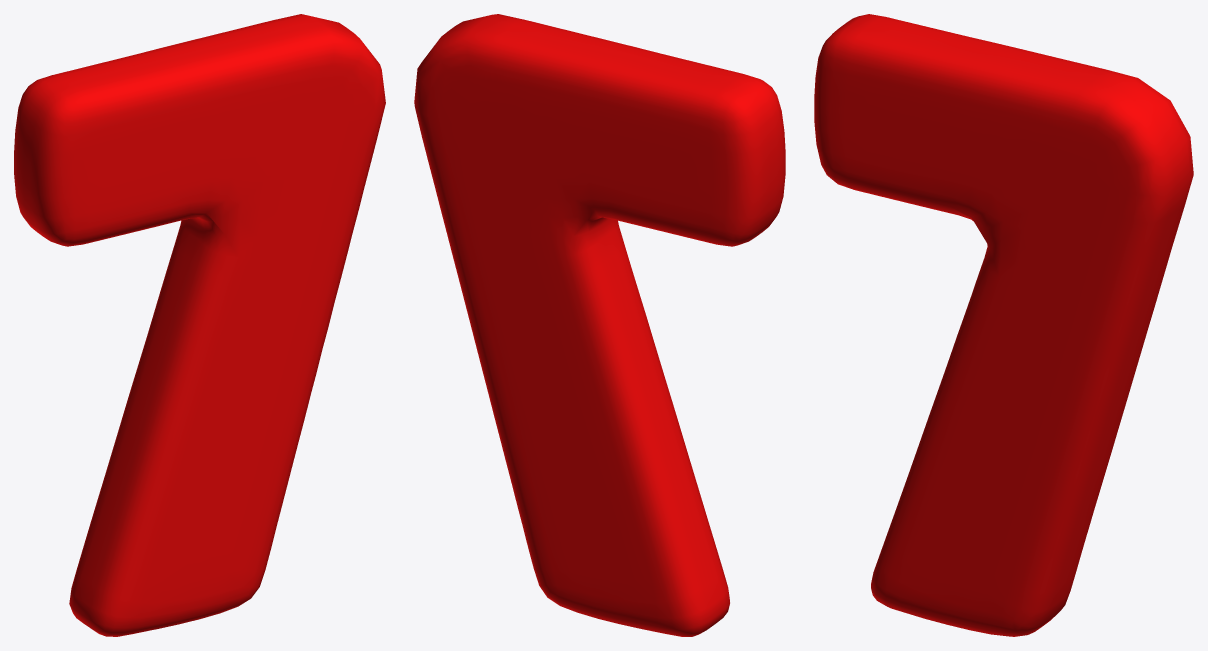
3 renders of one model, left to right at view 1: azimuth 30°, elevation 25°; view 2: azimuth 150°, elevation 25°; view 3: azimuth 330°, elevation 25°, orthographic. The views are drawn at different scales.
Visible parts, largest first — view 1: 7; view 2: 7; view 3: 7.
Part boxes in pixels (box(x1,y1,x2,y2)): 7: box(14, 14, 385, 636); 7: box(414, 14, 785, 636); 7: box(814, 14, 1193, 636).
Bounding box in the file's own units: 90.99 × 140 × 20.
